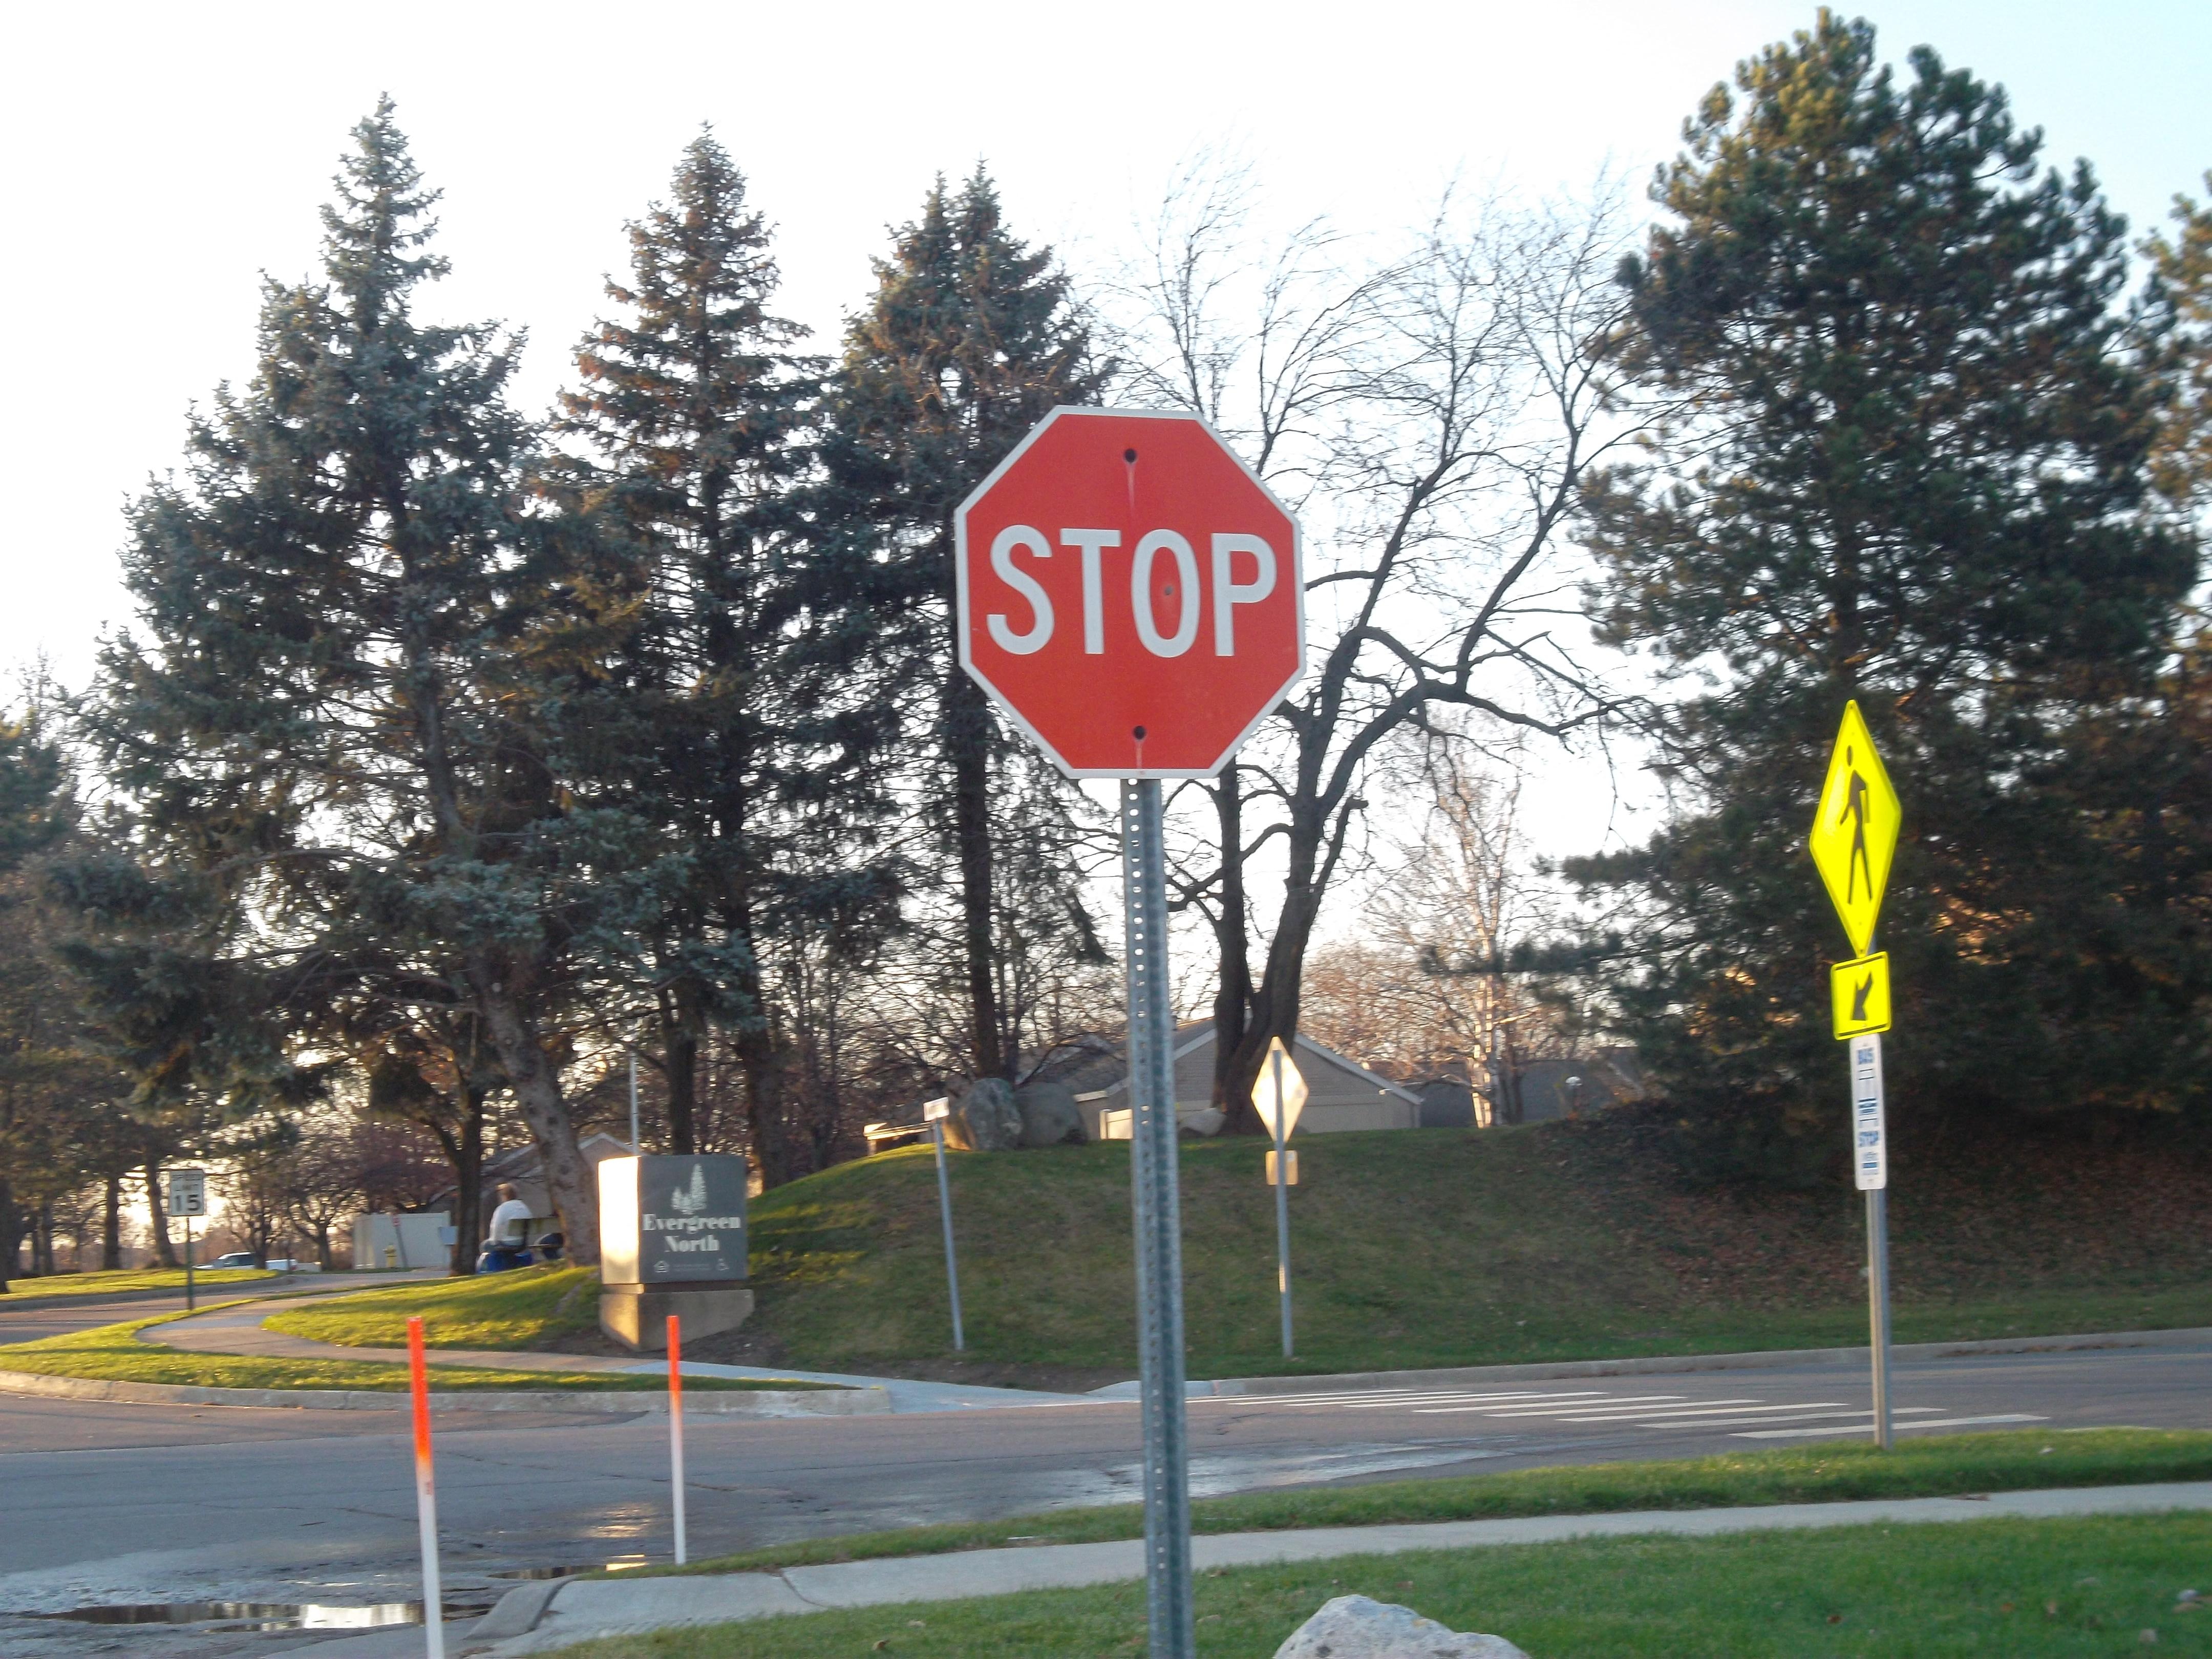stop: (944, 394, 1313, 791)
warning: (1806, 699, 1902, 953)
